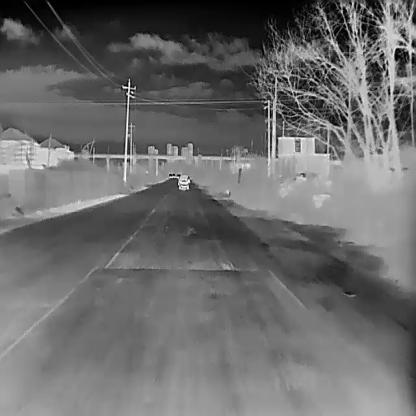car: (177, 173, 189, 189), (170, 172, 175, 178), (167, 172, 172, 178)
